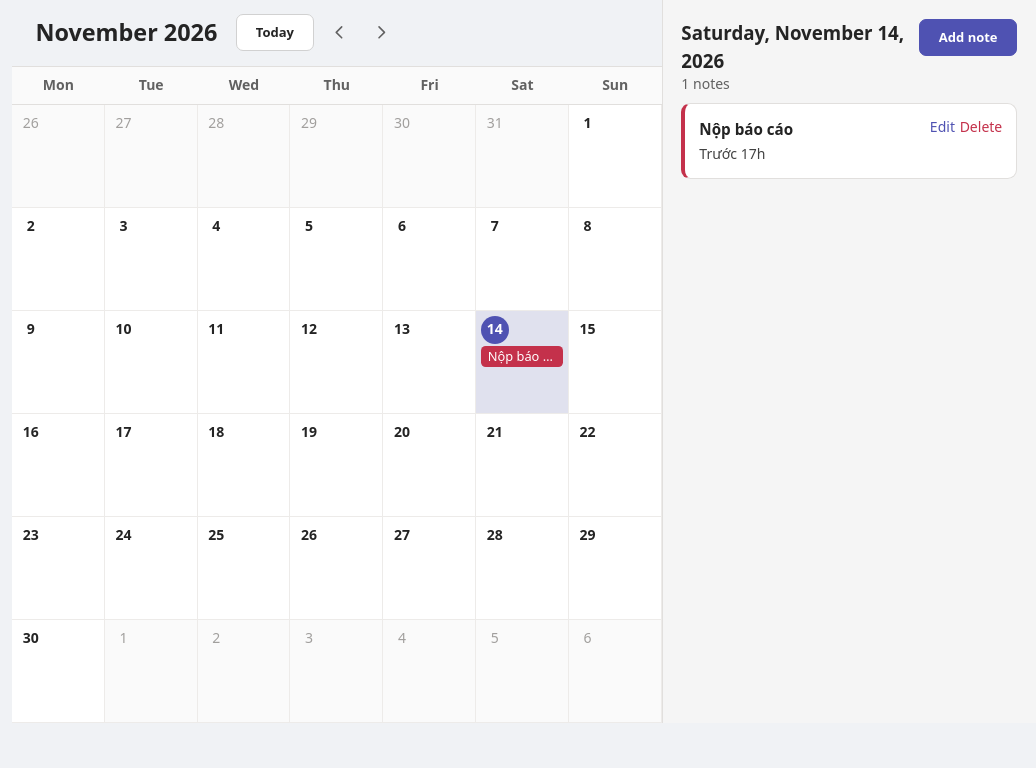
Test: CalendarView › should_removeNote_when_deleteClicked
This screenshot has width=1036, height=768.
Click the button with test id "note-delete".
click(981, 127)  # box [960,118,1002,137]
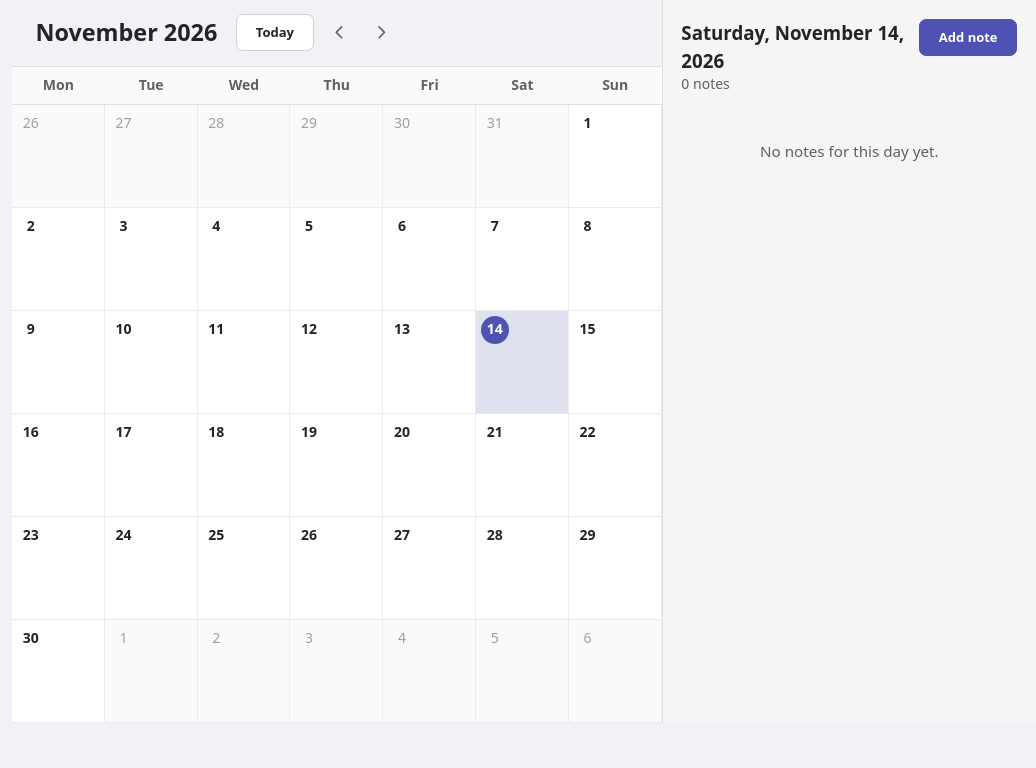
Result: the text "No notes for this day yet." is shown at [760,141,939,161]
